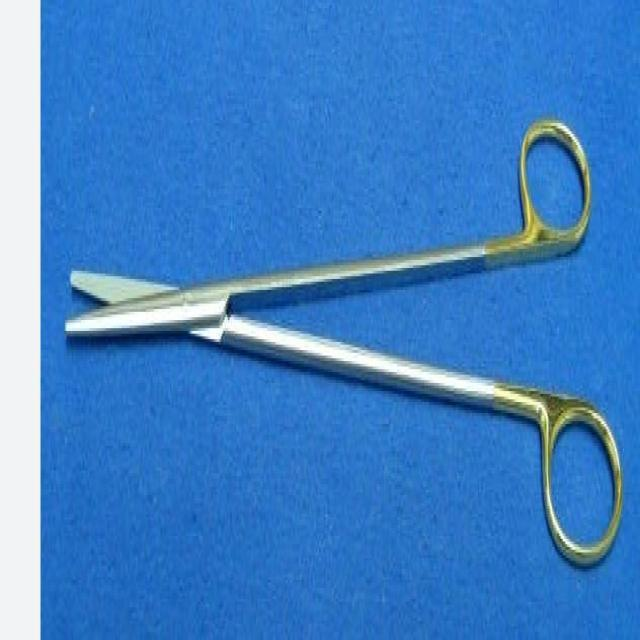Metzenbaum Sciccors: (61, 104, 624, 580)
